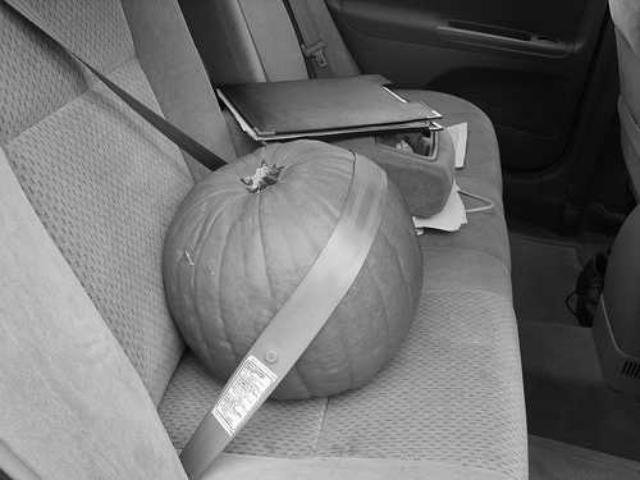Seatbelt: (1, 0, 392, 480)
